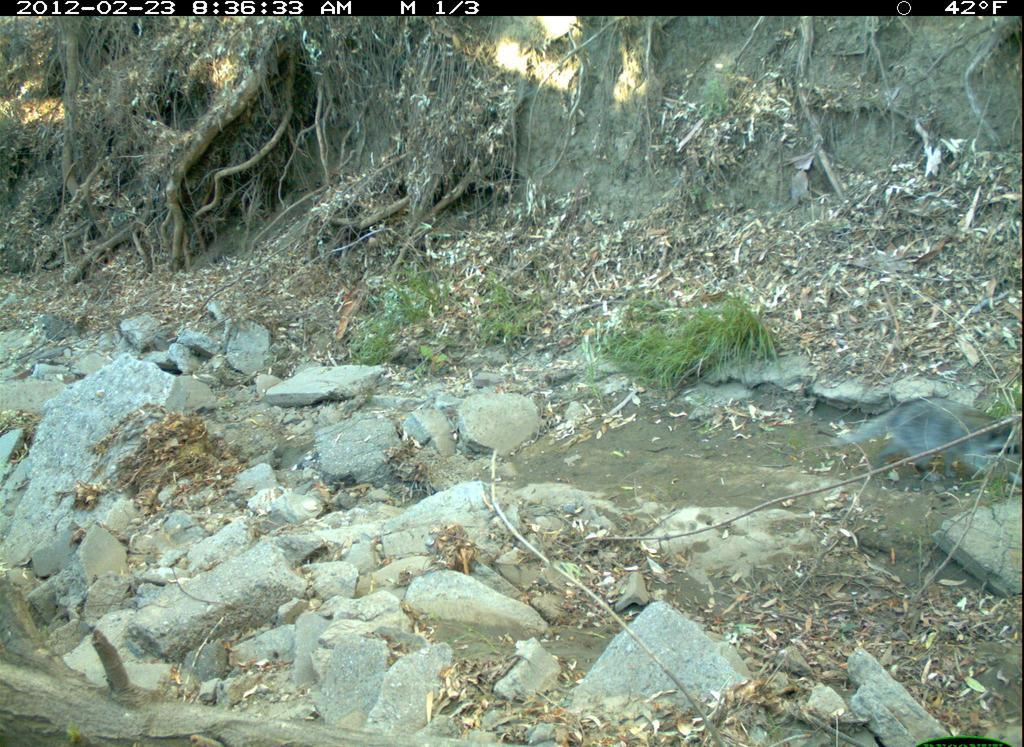raccoon: (836, 389, 1015, 488)
